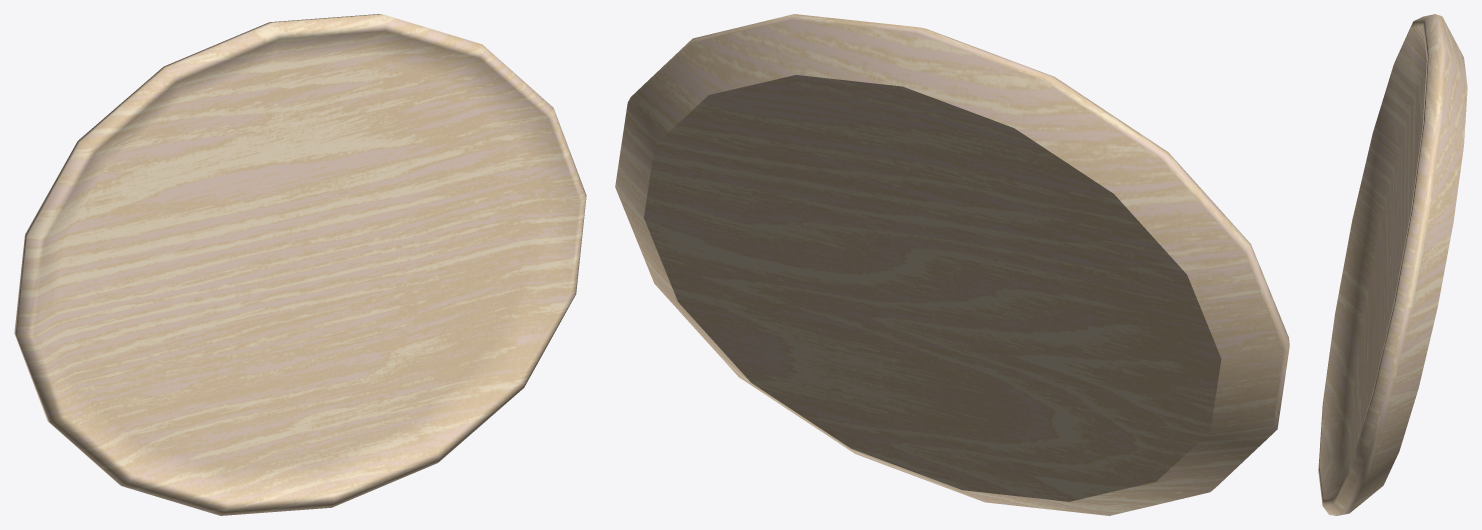
The model's file is prop_025.fbx.
3 renders of one model, left to right at view 1: azimuth 30°, elevation 25°; view 2: azimuth 150°, elevation 25°; view 3: azimuth 270°, elevation 25°, orthographic. The views are drawn at different scales.
Parts seen in each view (by area): view 1: prop_025; view 2: prop_025; view 3: prop_025.
Part boxes in pixels (bbox=[...]): prop_025: bbox=[14, 14, 586, 515]; prop_025: bbox=[615, 14, 1289, 515]; prop_025: bbox=[1318, 14, 1467, 515].
Bounding box in the file's own units: 59.61 × 13.9 × 44.28.
